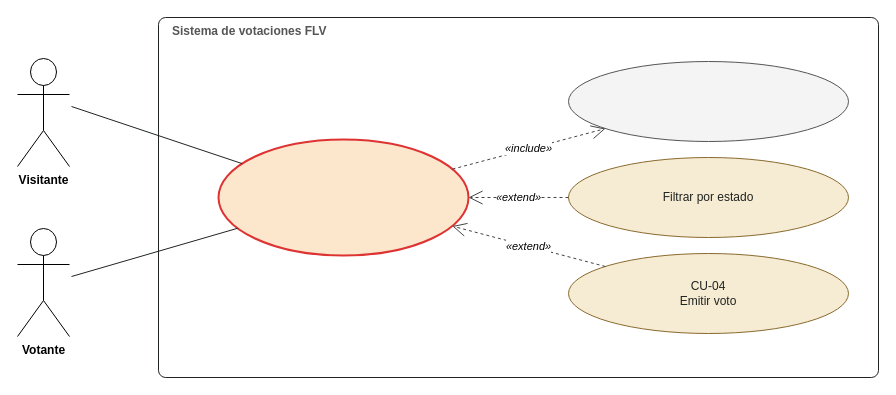
Some shapes in this 896 by 395 pixel diagram are drawn without their labels. Here are the shapes that lost their labels. From the top down, the centre of each, then its label:
At point 708,101: "Ver detalle de la votación".
At point 343,197: "CU-03 Consultar categorías y votaciones".
